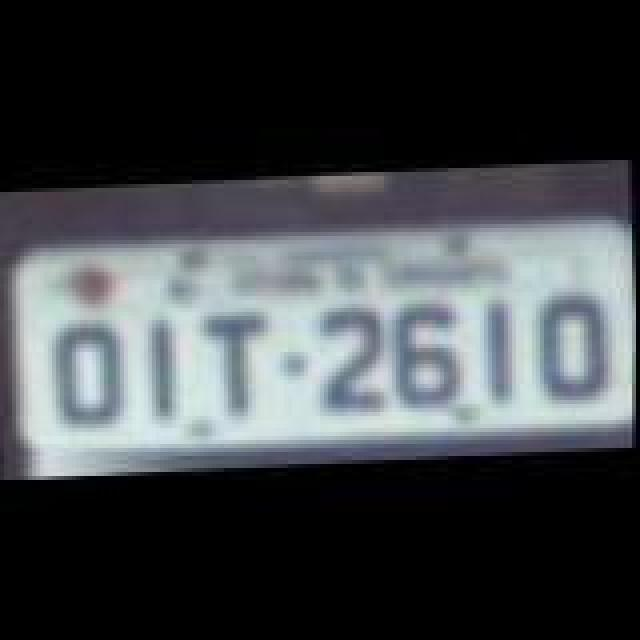1: (476, 294, 524, 410), (142, 312, 186, 424)
2: (310, 302, 386, 418)
6: (390, 302, 466, 418)
O: (528, 282, 616, 406), (52, 318, 124, 434)
T: (198, 312, 274, 424)
